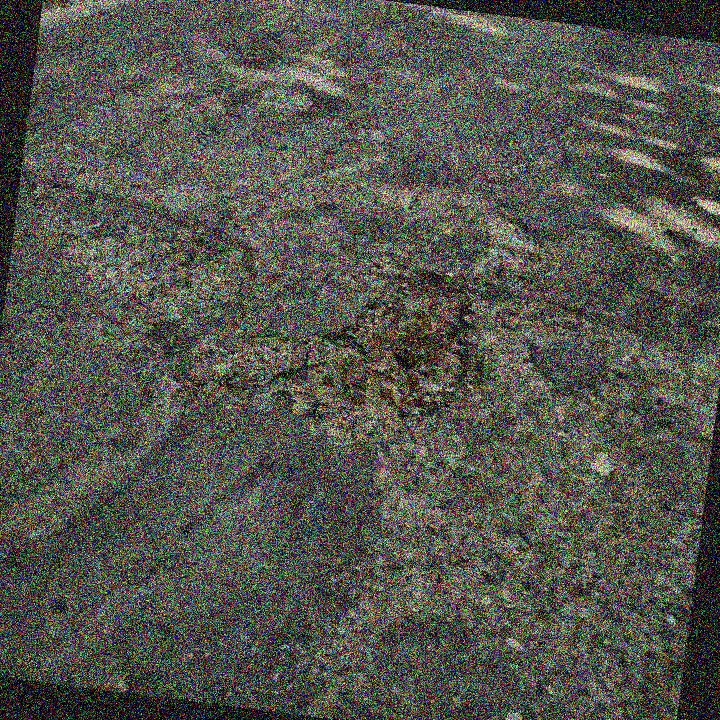pothole: (272, 246, 495, 456)
